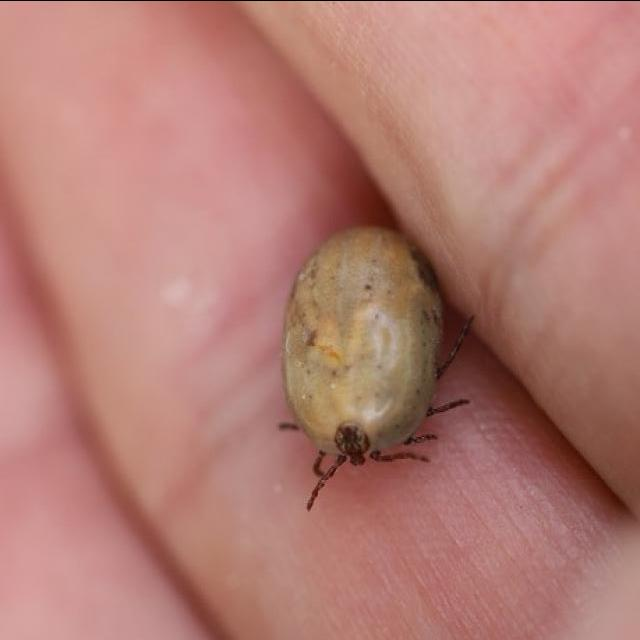Dermacentor Reticulatus-F-Fed: (277, 223, 477, 509)
